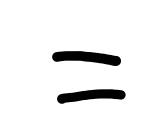eqv: (53, 50, 126, 103)
